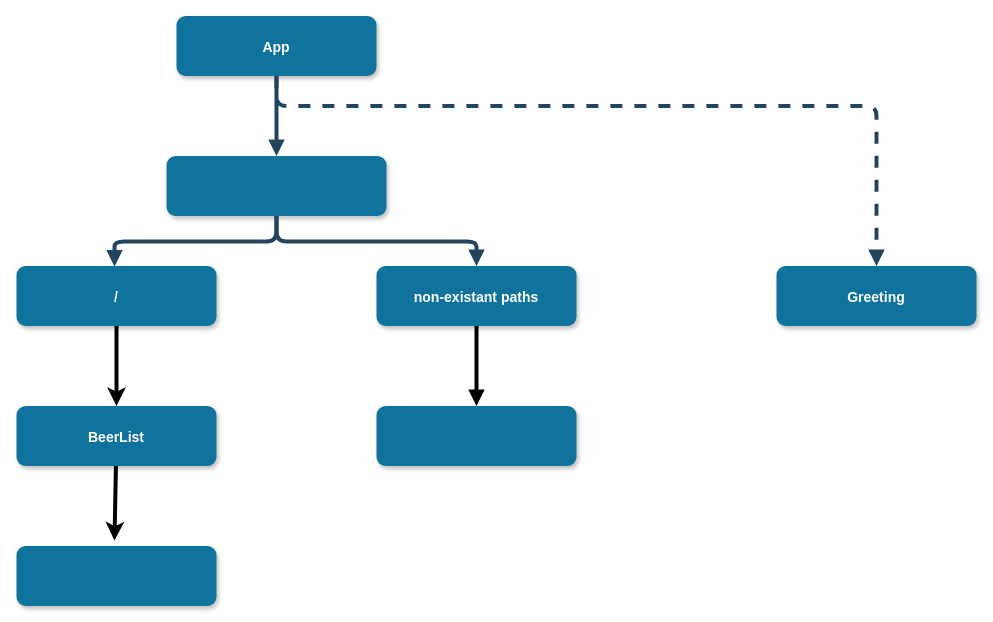
This 993x622 diagram has some shape labels left out. The centre of each missing label's shape, as x and y in pixels:
"Error 404" goes at point (477, 437).
"Header" goes at point (277, 187).
"OnTap" goes at point (117, 577).
